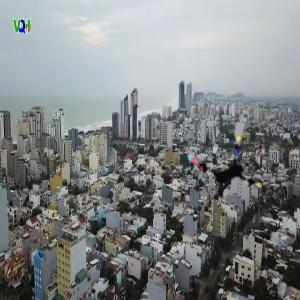drone: (185, 117, 275, 207)
